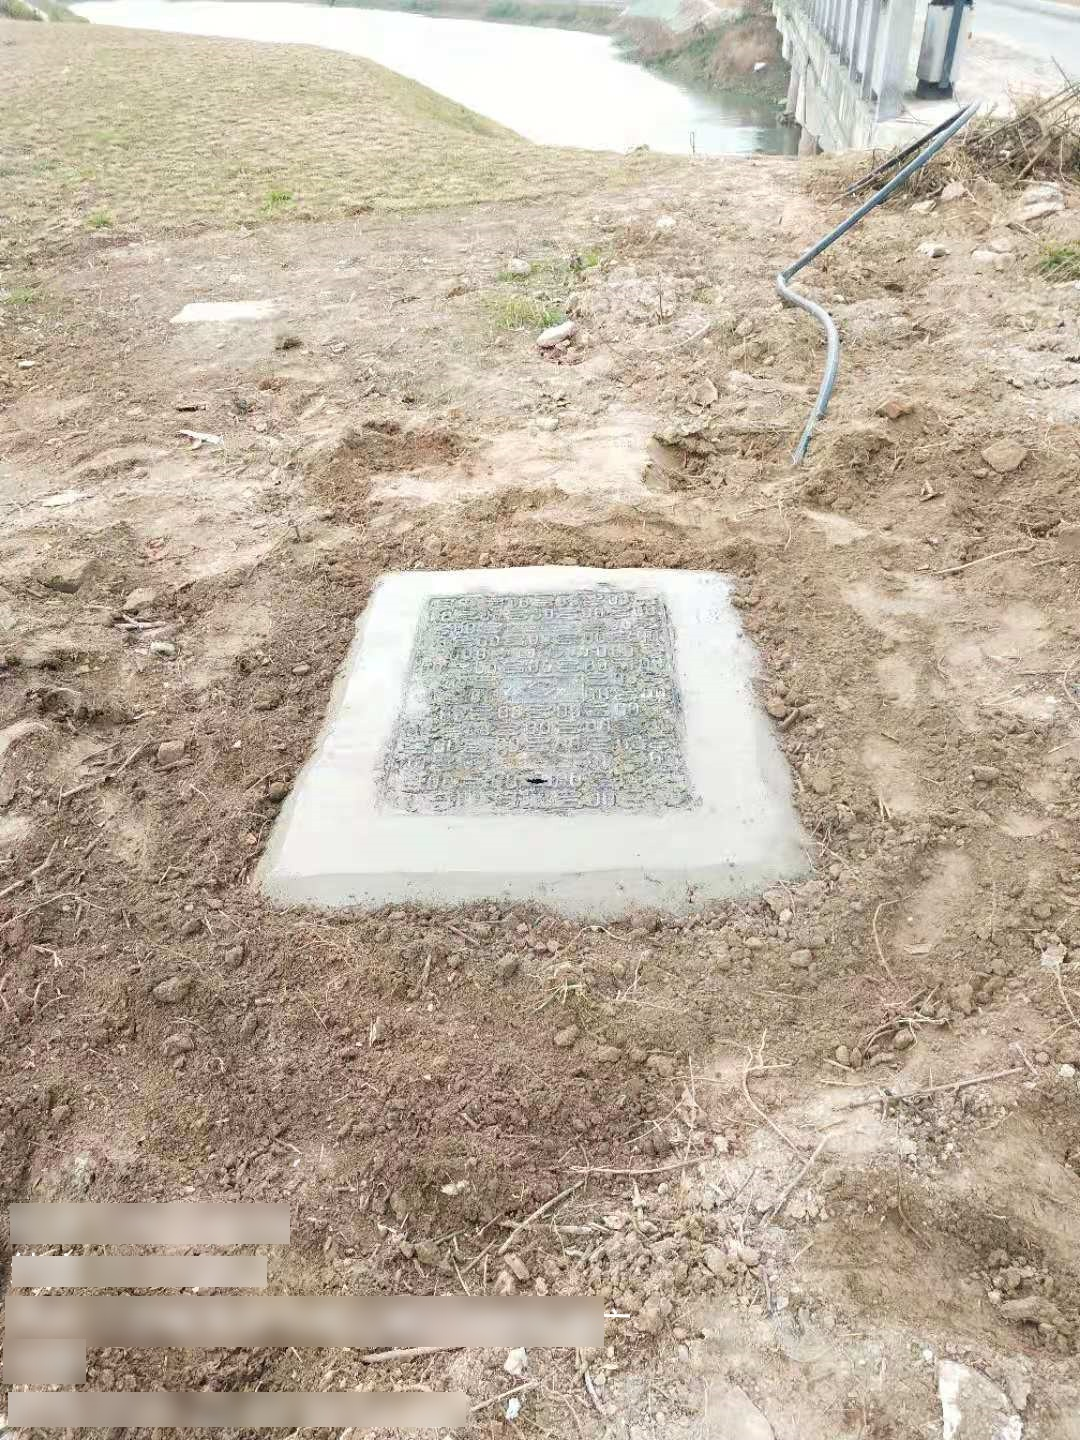good: (368, 585, 704, 824)
